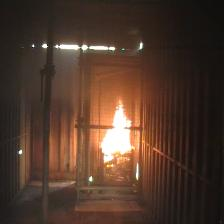fire: (102, 102, 132, 157)
